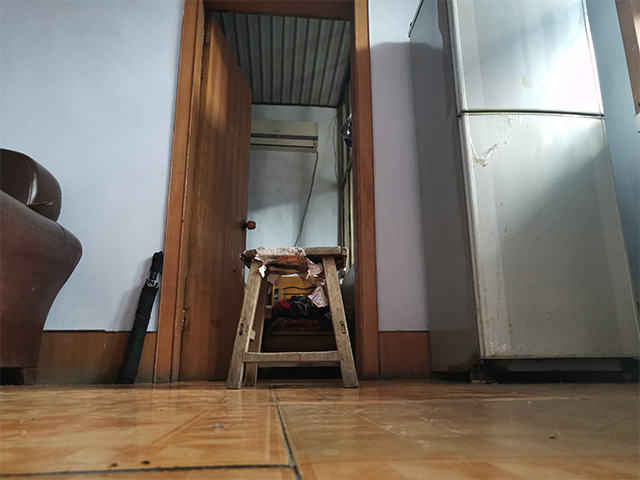stool: (223, 243, 361, 391)
